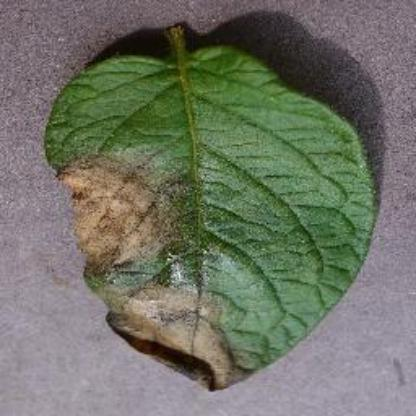Late-Blight: (12, 14, 394, 400)
